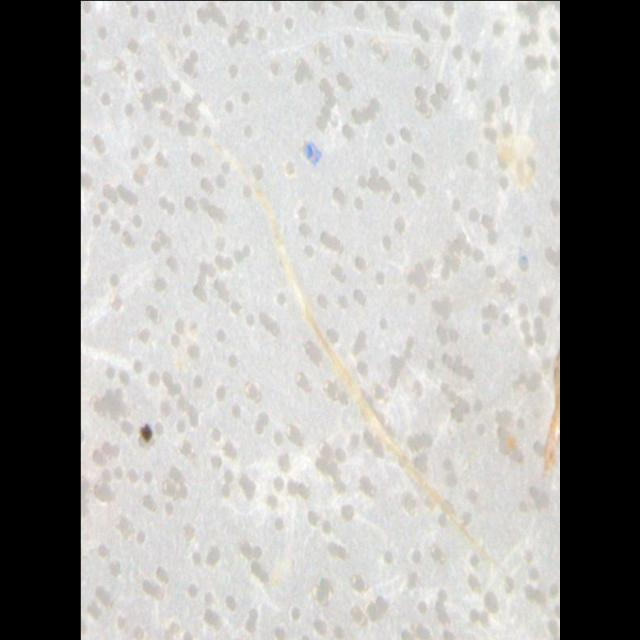Fibre: (156, 56, 488, 570), (518, 296, 560, 496), (488, 107, 542, 211)
